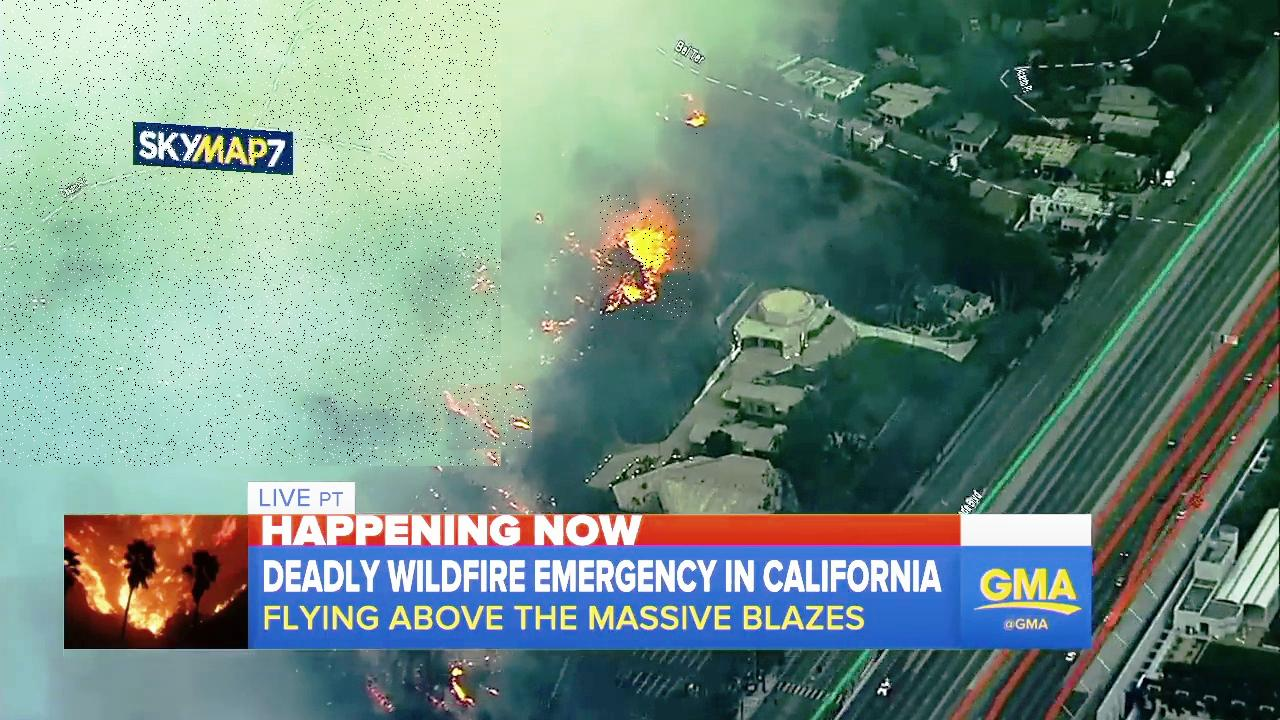fire: (600, 194, 690, 320), (440, 384, 532, 450), (680, 103, 720, 135)
smoke: (0, 0, 501, 466)
